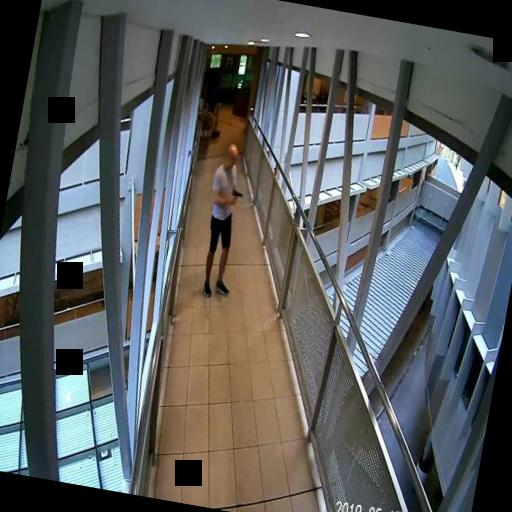Handgun: (230, 186, 242, 202)
